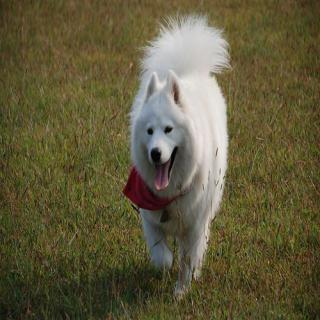dog: (131, 75, 201, 199)
